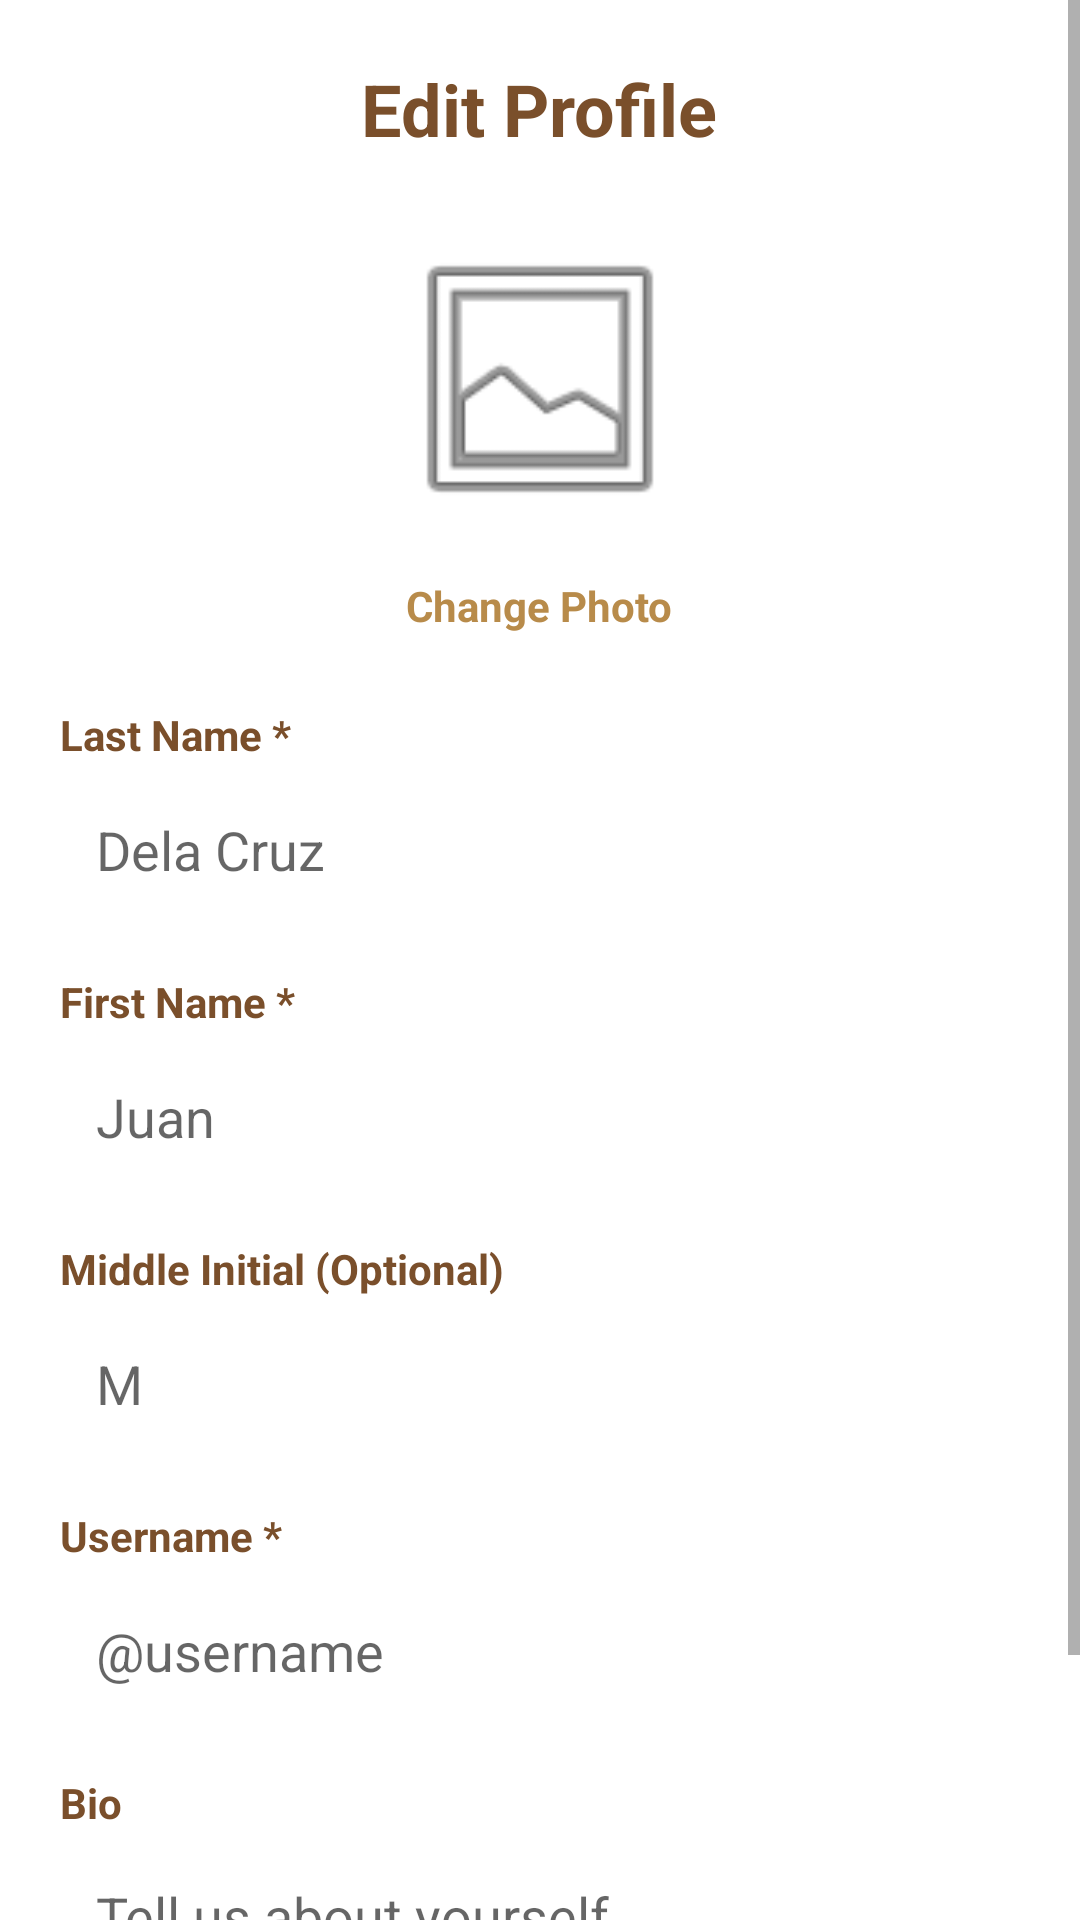

Icon click points for this 1080×1920 phone screenshot, format (x,y):
gallery: (540,379)
